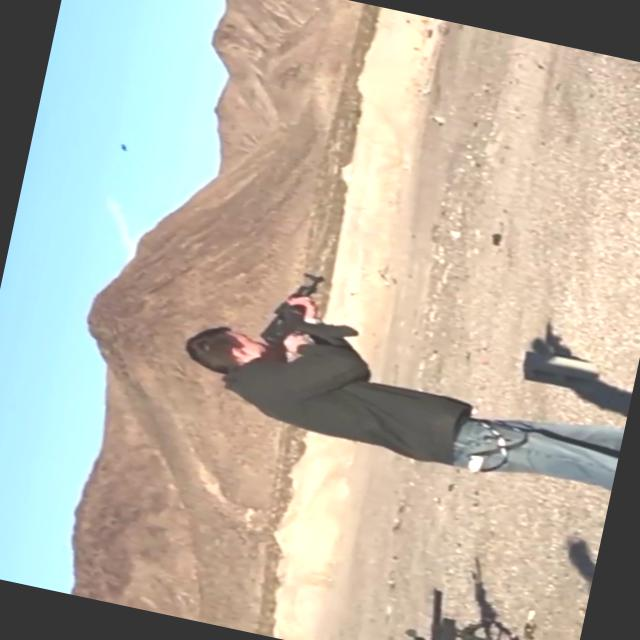long weapon: (244, 254, 378, 386)
